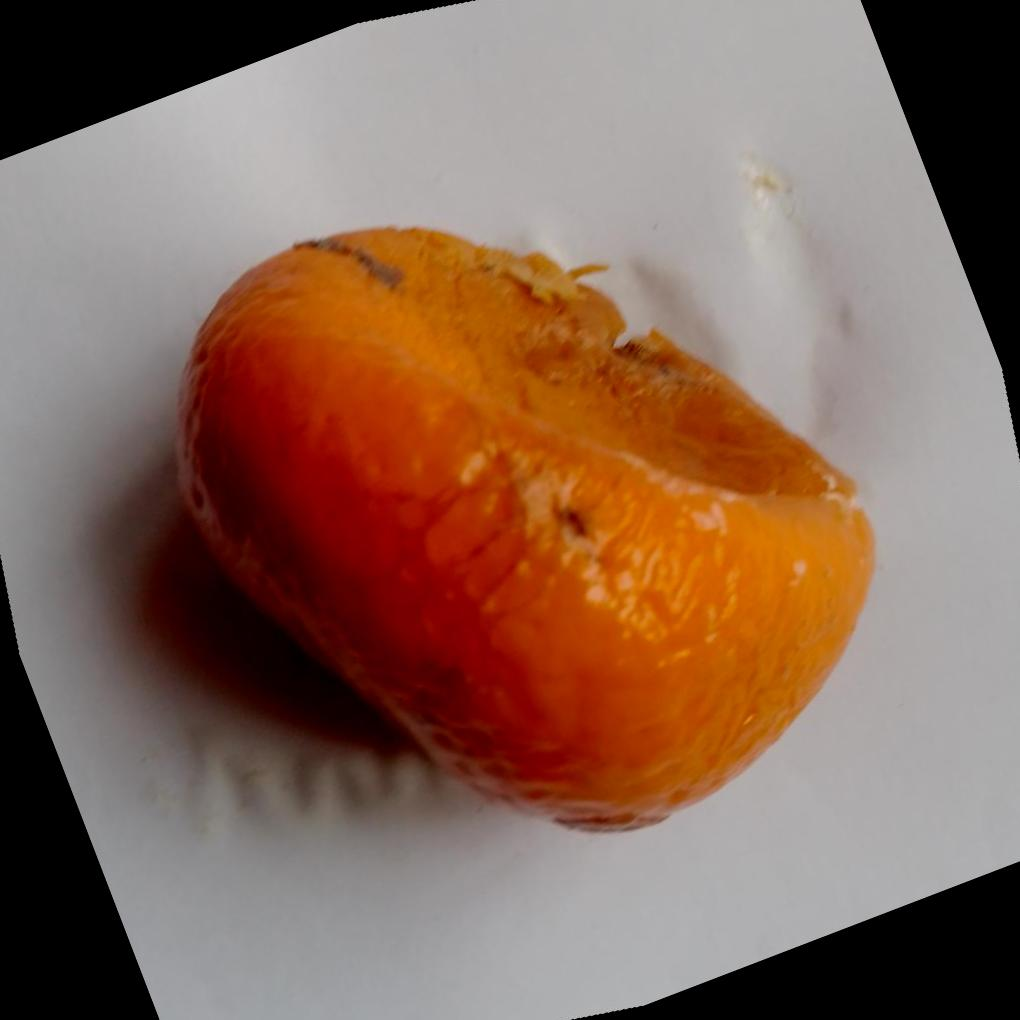FreshOrange: (172, 227, 879, 839)
